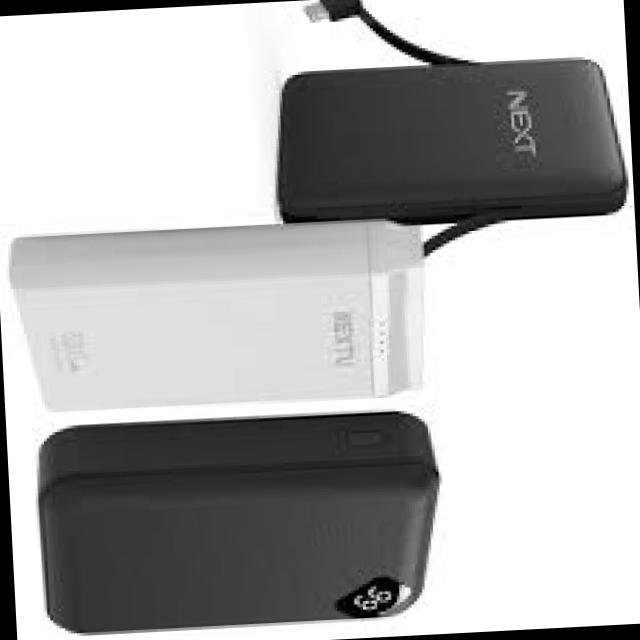power_bank: (27, 407, 445, 640), (6, 211, 439, 417), (264, 49, 634, 232)
